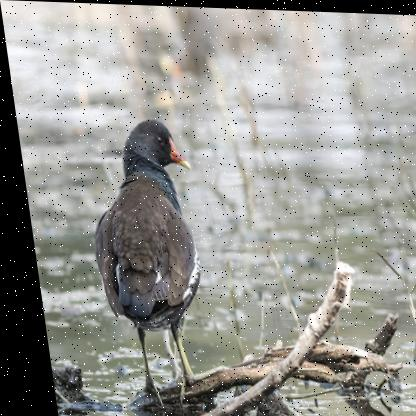Burung: (72, 116, 212, 405)
